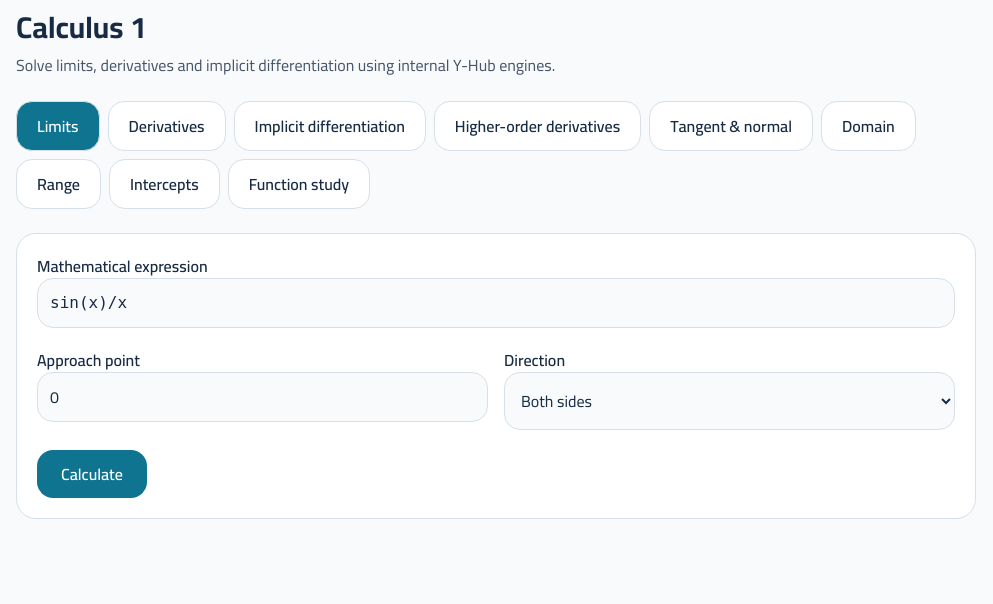
Test case: Calculus 1 intercepts UI › does not falsely verify unsupported input
Click the tab "Intercepts": (164, 184) [109, 159, 220, 209]
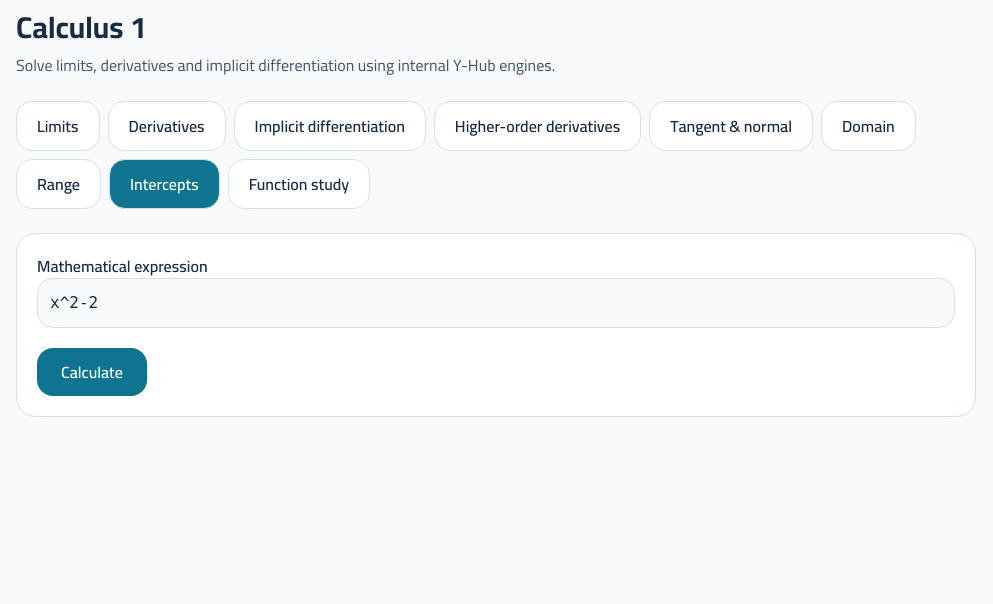
In the field labelled "Mathematical expression": (496, 303) [37, 278, 955, 328], type "sqrt(x)"
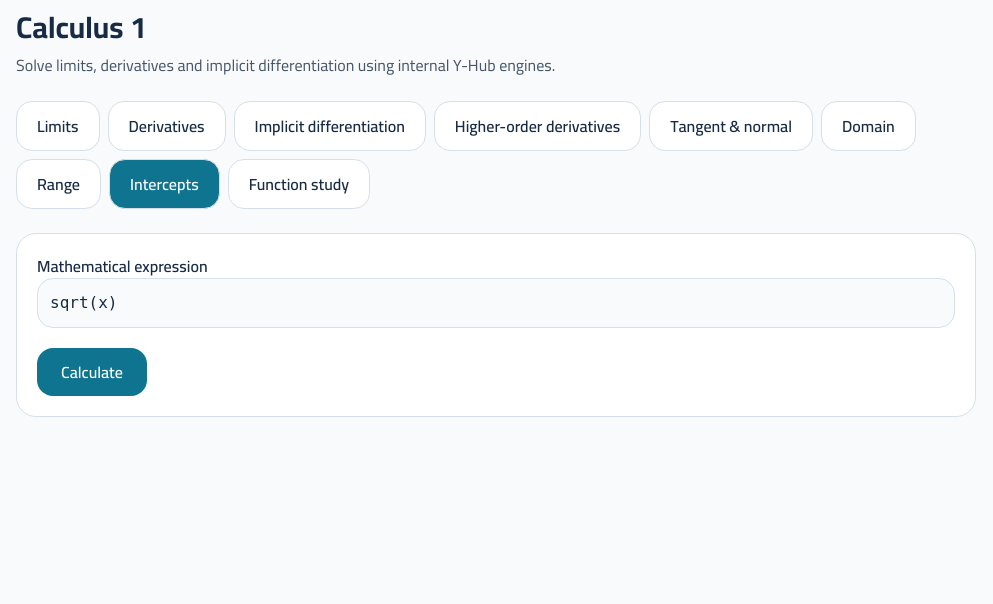
Click the button "Calculate": (92, 372) [37, 348, 147, 396]
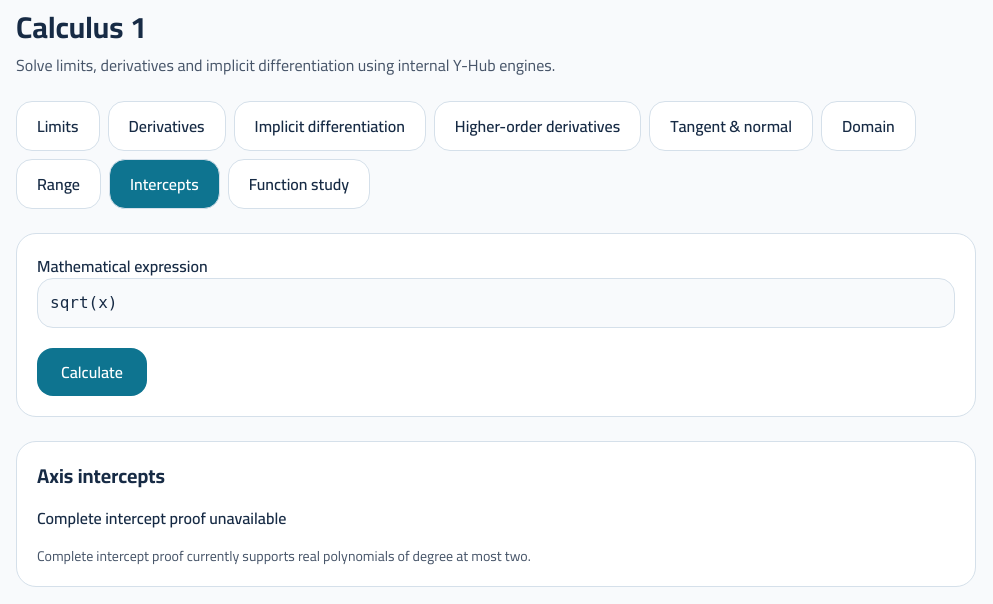
Expected: the element named "Unverified intercepts" is shown, [16, 441, 976, 587]
